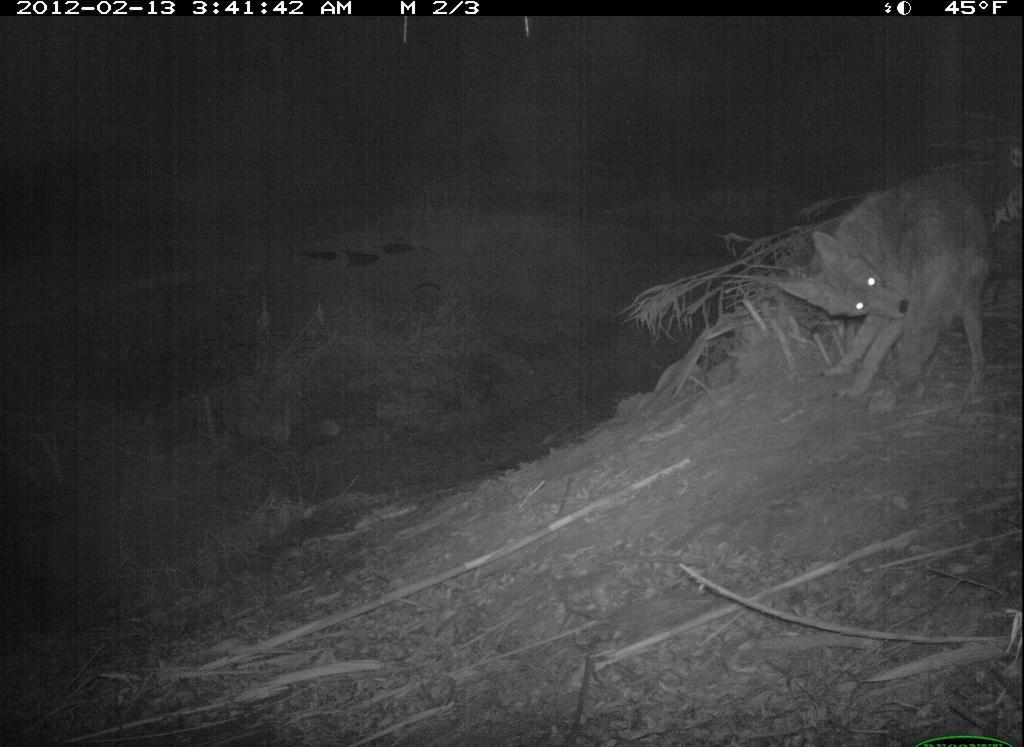coyote: (785, 172, 999, 408)
